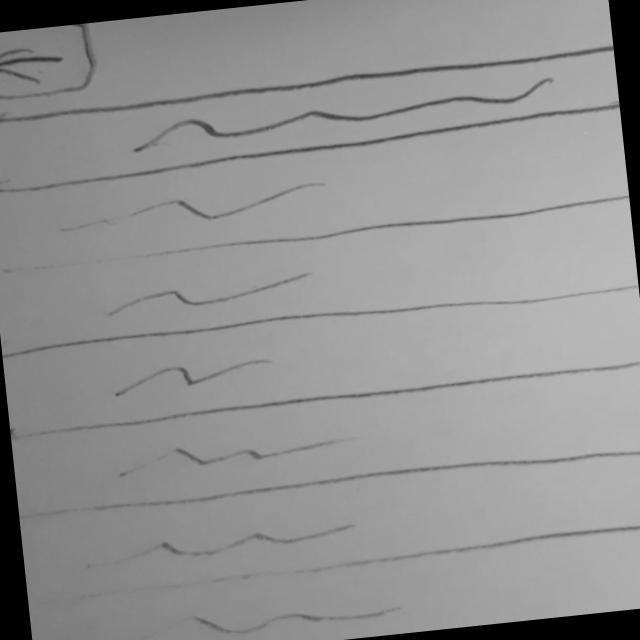container: (0, 193, 639, 357), (9, 358, 640, 521), (0, 110, 630, 273), (1, 279, 640, 437), (18, 441, 640, 598), (0, 46, 622, 200), (26, 522, 640, 640)
icon-button: (0, 22, 102, 107)
text: (111, 69, 586, 152), (39, 172, 342, 244), (77, 513, 366, 580), (100, 423, 378, 483), (104, 589, 408, 640), (89, 263, 326, 323), (95, 350, 288, 408)
